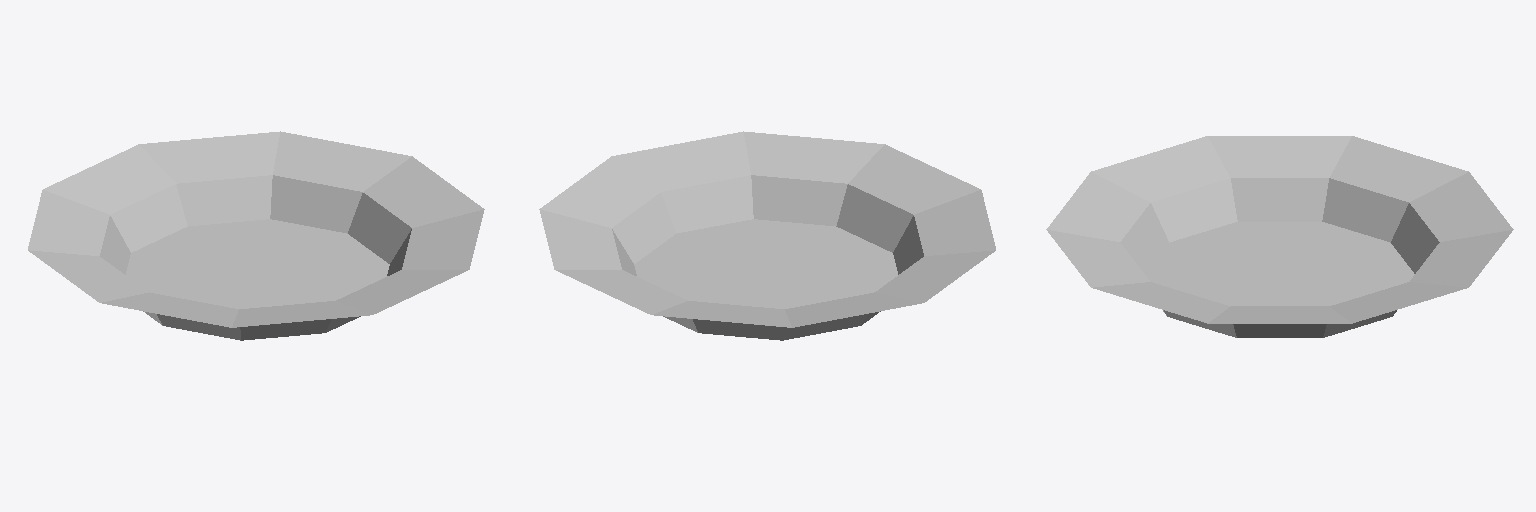
Rendered from tableplatesoup01.obj.
3 renders of one model, left to right at view 1: azimuth 30°, elevation 25°; view 2: azimuth 150°, elevation 25°; view 3: azimuth 270°, elevation 25°, orthographic.
Visible parts, largest first — view 1: Cylinder.001; view 2: Cylinder.001; view 3: Cylinder.001.
Boxes of the visible parts, x1,y1,x2,y2 form: Cylinder.001: [28, 131, 484, 340]; Cylinder.001: [539, 131, 995, 340]; Cylinder.001: [1046, 136, 1513, 337].
Size of the model in its own units: 0.2679 by 0.035 by 0.2817.